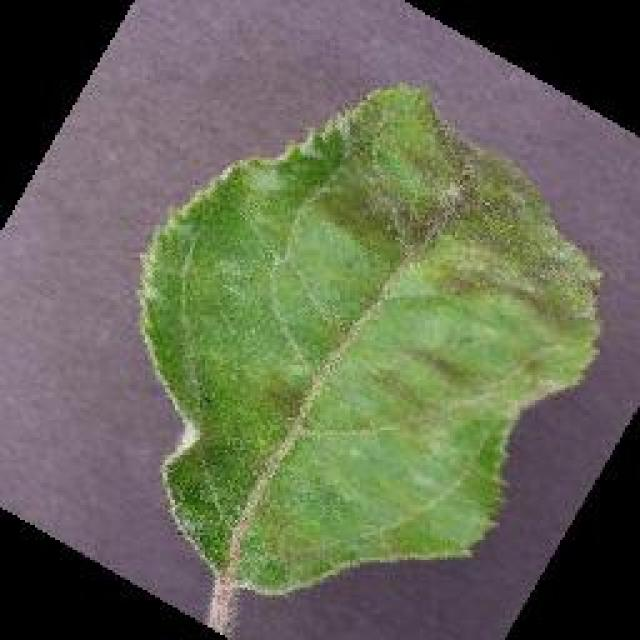apple scab disease: (135, 78, 605, 632)
